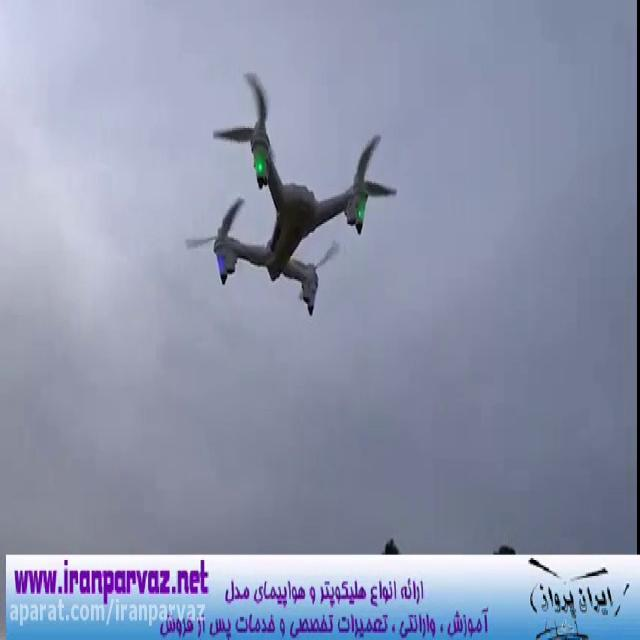drone: (180, 60, 402, 322)
